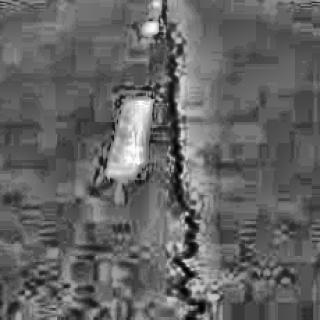crack: (157, 1, 212, 320)
